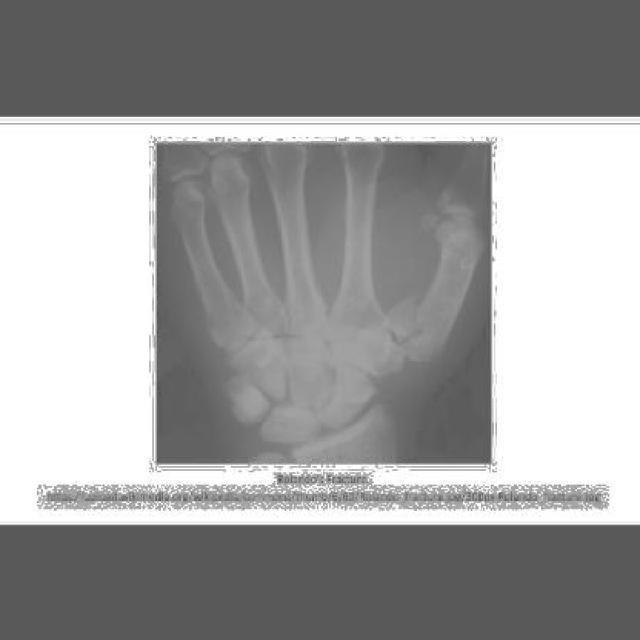Fracture: (378, 288, 431, 344)
